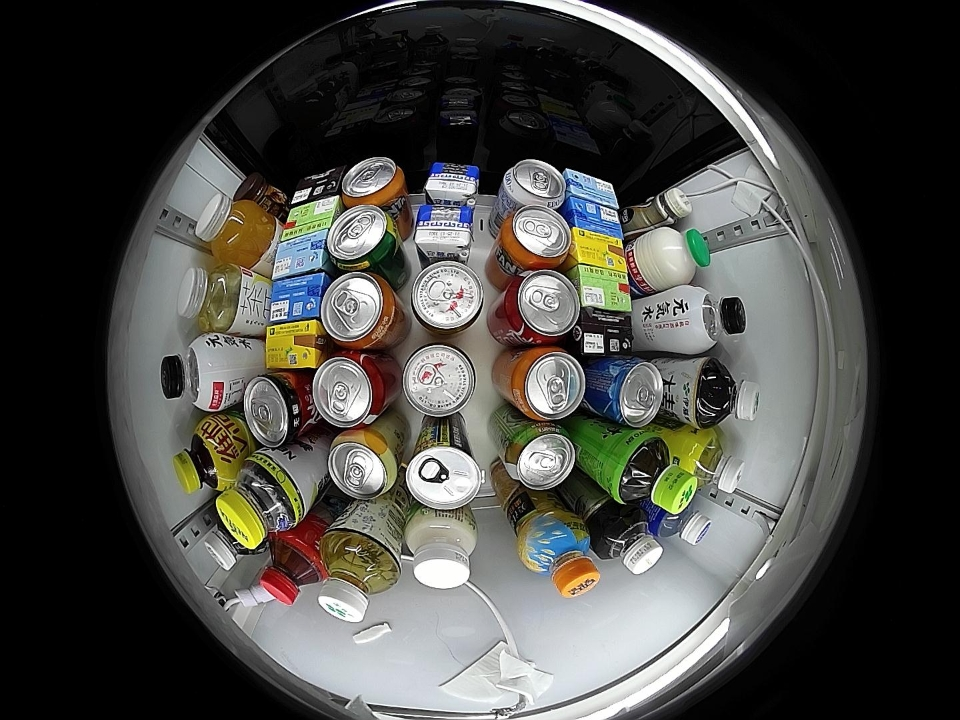anmuxi: (413, 203, 473, 262), (424, 162, 481, 204)
baokuangli: (652, 493, 713, 546)
binghongcha: (260, 534, 326, 606)
bingtangxueli: (681, 430, 746, 494)
chacui: (216, 452, 305, 548)
chapai2: (177, 265, 244, 333)
damaicha: (696, 359, 762, 427)
fenda: (320, 271, 398, 349), (511, 346, 586, 422), (501, 206, 572, 269), (341, 157, 405, 207)
guolicheng: (518, 516, 600, 598)
hongniu2: (410, 260, 485, 336), (402, 342, 477, 417)
kafei: (630, 188, 693, 233)
kele: (312, 352, 389, 430), (504, 269, 581, 345)
lingdukele: (243, 371, 309, 447)
liziyuan: (636, 227, 711, 291)
lujikafei: (230, 173, 284, 216)
mangguoxiaolao: (326, 430, 399, 499)
moliqingcha: (204, 519, 258, 571)
qingdaowangzi-2: (593, 357, 664, 428)
quchenshixiangcao: (505, 423, 577, 491)
rancha-2: (318, 530, 401, 625)
rusuanjunqishui: (501, 159, 566, 209)
wanglaoji: (281, 195, 342, 242), (573, 265, 631, 313)
weic: (194, 195, 277, 267)
weitanai: (267, 272, 328, 322), (566, 197, 624, 241)
weitanai2: (575, 309, 634, 357), (289, 166, 345, 209)
weitanaiditang: (271, 228, 330, 278), (563, 168, 620, 210)
weitaningmeng: (264, 320, 324, 370), (569, 228, 627, 271)
weitaningmeng-bottle: (173, 421, 236, 493)
wulongcha: (596, 509, 662, 575)
xuebi2: (327, 205, 399, 271)
yezhi: (404, 434, 483, 510)
yitengyuan: (608, 431, 697, 515)
yousuanru: (403, 510, 478, 589)
yuanqishui: (160, 334, 232, 411), (680, 286, 747, 354)
